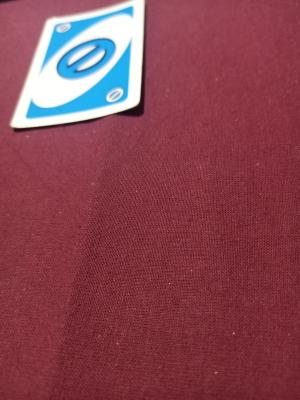blue: (53, 25, 130, 105)
skip: (101, 87, 128, 103), (55, 21, 75, 35)
